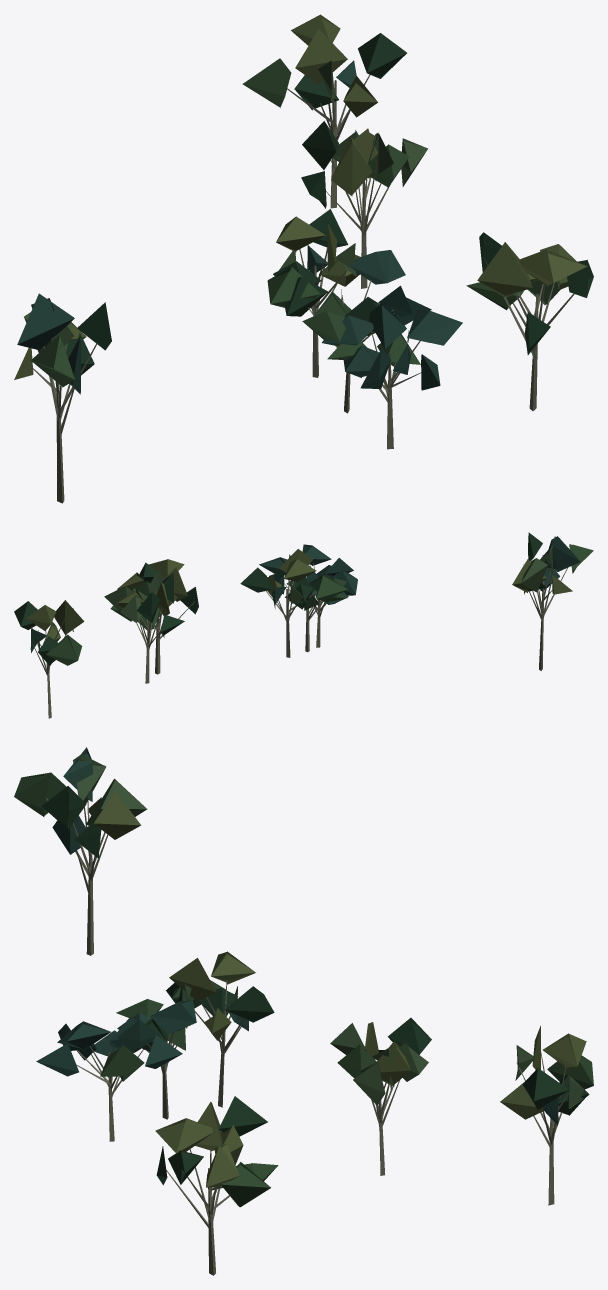
Rendered from forest_20_19.dae.
3 renders of one model, top to bottom at view 1: azimuth 30°, elevation 25°; view 2: azimuth 150°, elevation 25°; view 3: azimuth 270°, elevation 25°, orthographic. The views are drawn at different scales.
Visible parts, largest first — view 1: Node; view 2: Node; view 3: Node.
Boxes of the visible parts, x1,y1,x2,y2 form: Node: (14, 14, 593, 503); Node: (14, 532, 593, 718); Node: (14, 747, 593, 1275).
Bounding box in the file's own units: 10.71 × 9.12 × 4.81.
